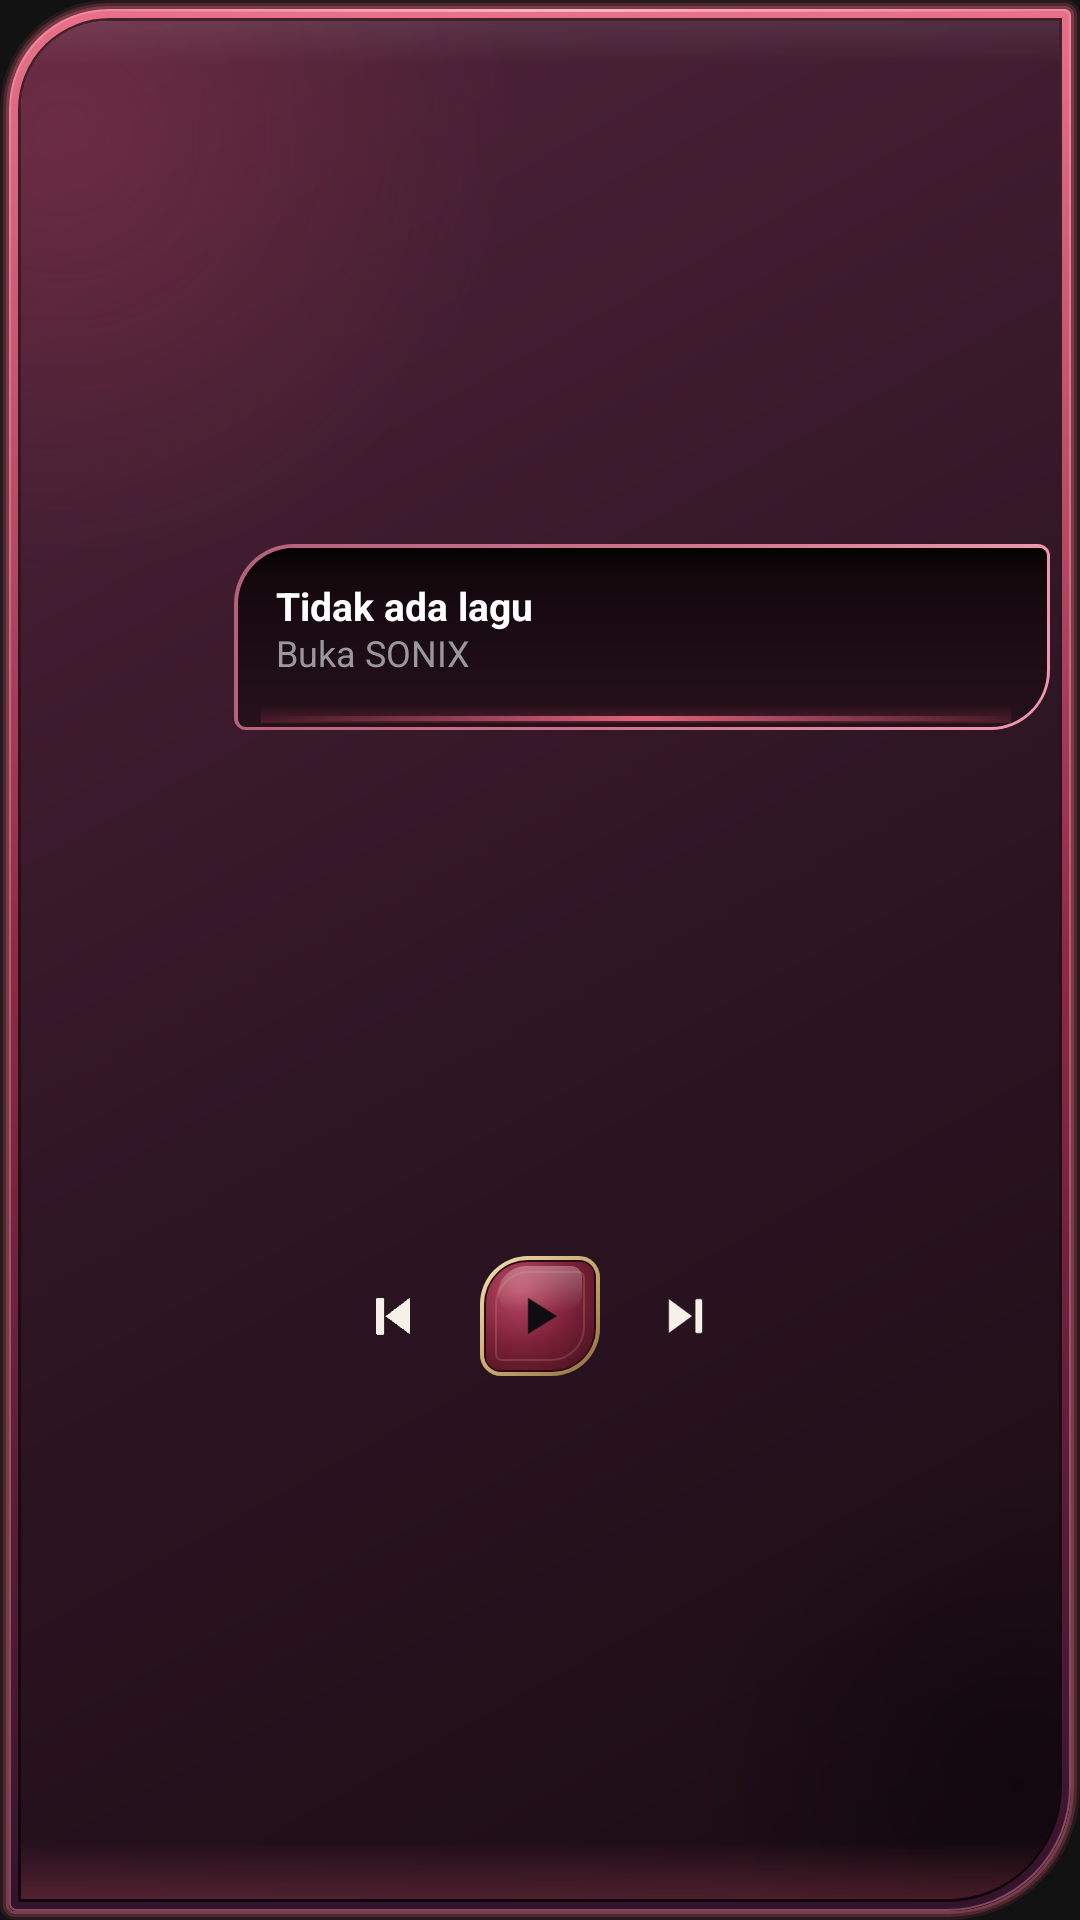

Icons on this 1080×1920 Android screen, each with its box as region(x1, y1, x2, y2):
Berikutnya: region(668, 1298, 703, 1334)
Putar: region(480, 1256, 600, 1376)
Sebelumnya: region(376, 1298, 410, 1335)
